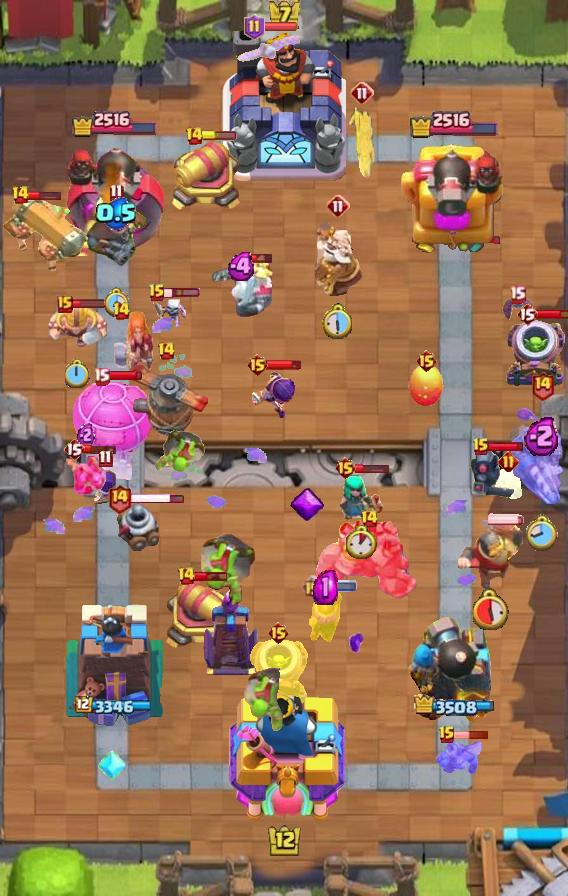bar: (130, 492, 185, 505), (487, 513, 525, 525), (164, 287, 201, 299), (321, 580, 357, 592), (193, 570, 229, 582), (82, 443, 118, 455), (107, 370, 143, 382), (266, 359, 302, 371), (355, 462, 390, 474), (239, 252, 274, 264), (488, 441, 525, 452), (71, 298, 108, 309), (262, 21, 298, 32), (27, 190, 62, 201), (536, 308, 568, 320), (201, 131, 237, 141), (454, 730, 489, 740)
bar-level: (107, 483, 132, 514), (530, 370, 555, 401), (326, 194, 350, 218), (350, 81, 374, 105), (267, 621, 290, 645), (334, 456, 357, 480), (246, 353, 269, 377), (415, 349, 438, 373), (244, 14, 265, 40), (301, 575, 324, 598), (63, 437, 85, 461), (516, 302, 538, 326), (498, 451, 519, 472), (177, 566, 196, 586), (360, 509, 379, 529), (157, 341, 176, 361), (112, 301, 131, 321), (11, 185, 30, 205), (185, 126, 204, 146), (438, 725, 456, 745), (472, 437, 490, 457), (148, 283, 166, 303), (93, 367, 110, 386), (509, 285, 526, 304), (57, 295, 73, 313), (98, 449, 113, 468), (109, 183, 124, 202)
bat: (500, 294, 534, 322)
bat-evolution: (236, 32, 300, 64)
bomber-evolution: (248, 367, 296, 421)
cannoneer-tower: (399, 138, 507, 256), (64, 138, 165, 256), (403, 615, 503, 731)
clock: (473, 588, 510, 630), (526, 514, 559, 553), (322, 303, 355, 340), (346, 525, 377, 559), (103, 287, 129, 318), (65, 359, 90, 388)
elite-barbarian: (46, 301, 108, 349)
elixir: (524, 415, 561, 456), (95, 197, 138, 230), (227, 252, 258, 281), (313, 570, 338, 605), (77, 421, 95, 448)
evolution-symbol: (289, 487, 324, 523)
goblin-ball: (198, 529, 258, 605), (242, 668, 292, 734), (153, 428, 207, 476)
heal-spirit: (488, 465, 528, 499)
hunter: (83, 194, 149, 268)
ice-spirit-evolution-symbol: (98, 748, 126, 782)
king-tower: (222, 31, 346, 181), (223, 689, 345, 826)
knight: (458, 519, 524, 591)
little-prince: (348, 106, 376, 178)
mini-pekka: (467, 447, 517, 501)
minion: (435, 735, 485, 777), (65, 451, 107, 497)
mortar-evolution: (246, 637, 310, 707), (504, 319, 568, 389)
musketeer: (303, 588, 347, 648)
phoenix-egg: (406, 364, 446, 408)
queen-tower: (62, 599, 167, 731)
rascal-girl: (337, 473, 385, 521)
royal-ghost: (209, 256, 275, 322)
skeleton: (151, 296, 187, 330)
skeleton-evolution: (92, 468, 118, 504)
tower-bar: (408, 109, 499, 139), (70, 109, 158, 138), (412, 694, 494, 717), (75, 696, 154, 716)
valkyrie: (110, 311, 158, 373)
zappy: (114, 497, 160, 551)
